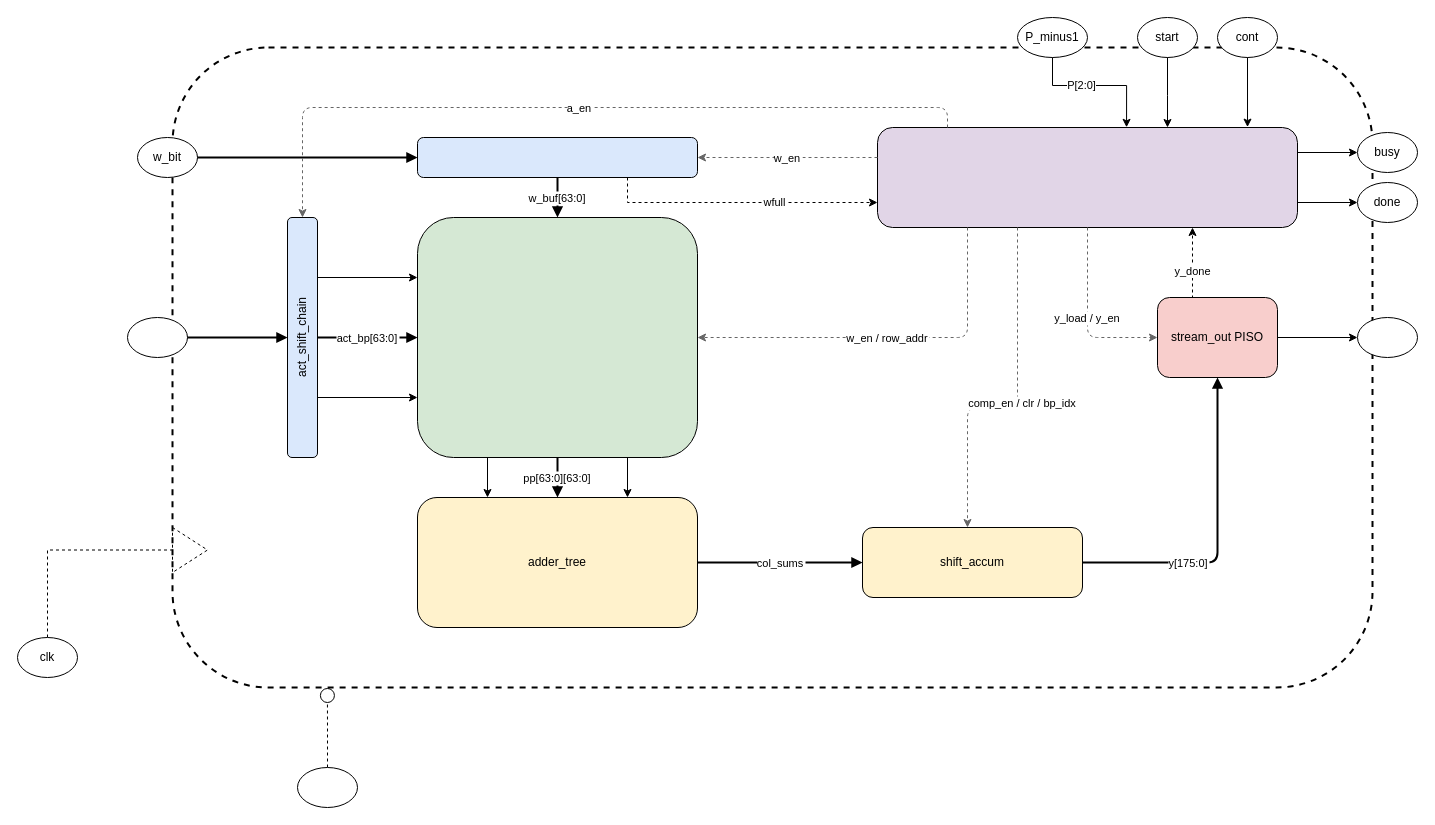
Some shapes in this 1435 by 825 pixel diagram are drawn without their labels. The centre of each missing label's shape, as x and y in pixels:
a_bit: the point at 157,337
control_fsm IDLE → WRITE_W → WRITE_A → COMPUTE → DONE: the point at 1087,177
dcim_array 64×64: the point at 557,337
rst_n: the point at 327,787
weight_load (SIPO): the point at 557,157
y_bit: the point at 1387,337
